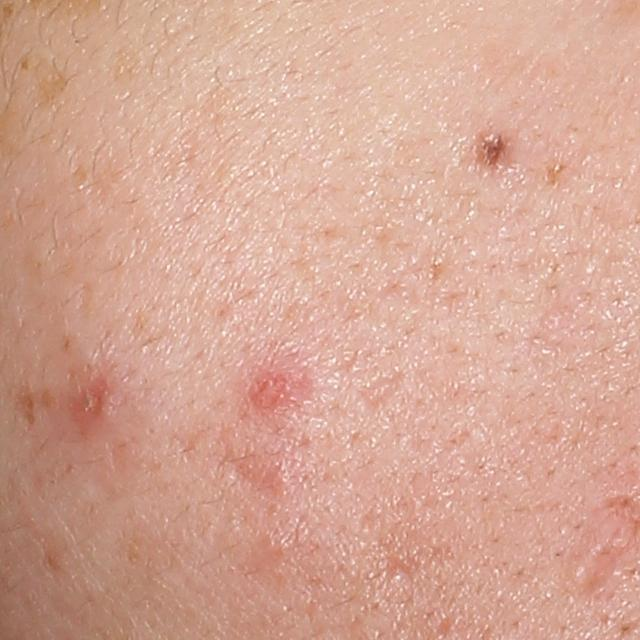atrophic_scar: (359, 371, 404, 414)
comedo: (386, 558, 413, 585)
melasma: (32, 70, 77, 112)
papule: (253, 365, 305, 405)
